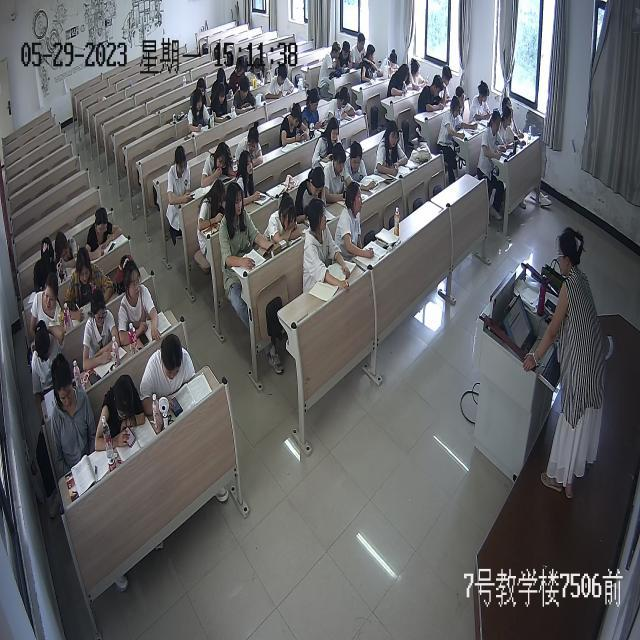distracted: (45, 361, 95, 474), (27, 324, 69, 401), (31, 277, 65, 338), (32, 236, 60, 289), (320, 41, 341, 78), (362, 44, 380, 84), (337, 42, 354, 74)
focused: (303, 195, 345, 292), (115, 258, 163, 342), (337, 179, 375, 260), (83, 292, 122, 369), (67, 248, 111, 315), (375, 120, 412, 177), (86, 209, 125, 259), (234, 150, 266, 208), (298, 167, 332, 220), (326, 144, 354, 204), (313, 117, 342, 171), (197, 180, 225, 227), (440, 96, 472, 136), (346, 144, 374, 187), (208, 83, 235, 127), (238, 125, 264, 168), (420, 74, 448, 111), (482, 111, 504, 156), (268, 66, 295, 99), (234, 77, 258, 112), (232, 54, 254, 92), (498, 107, 520, 145), (389, 64, 414, 97), (474, 84, 494, 125), (379, 47, 403, 79), (250, 58, 272, 90), (352, 33, 371, 68), (458, 88, 472, 124), (439, 66, 452, 104)
sleep: (268, 194, 306, 248)
using_phone: (140, 336, 200, 424), (220, 184, 278, 272), (93, 375, 151, 450), (201, 142, 236, 190), (51, 232, 84, 282), (168, 148, 195, 208), (280, 103, 310, 148), (188, 89, 216, 134), (301, 87, 328, 131), (328, 86, 358, 124), (410, 58, 431, 94), (214, 68, 235, 102)
